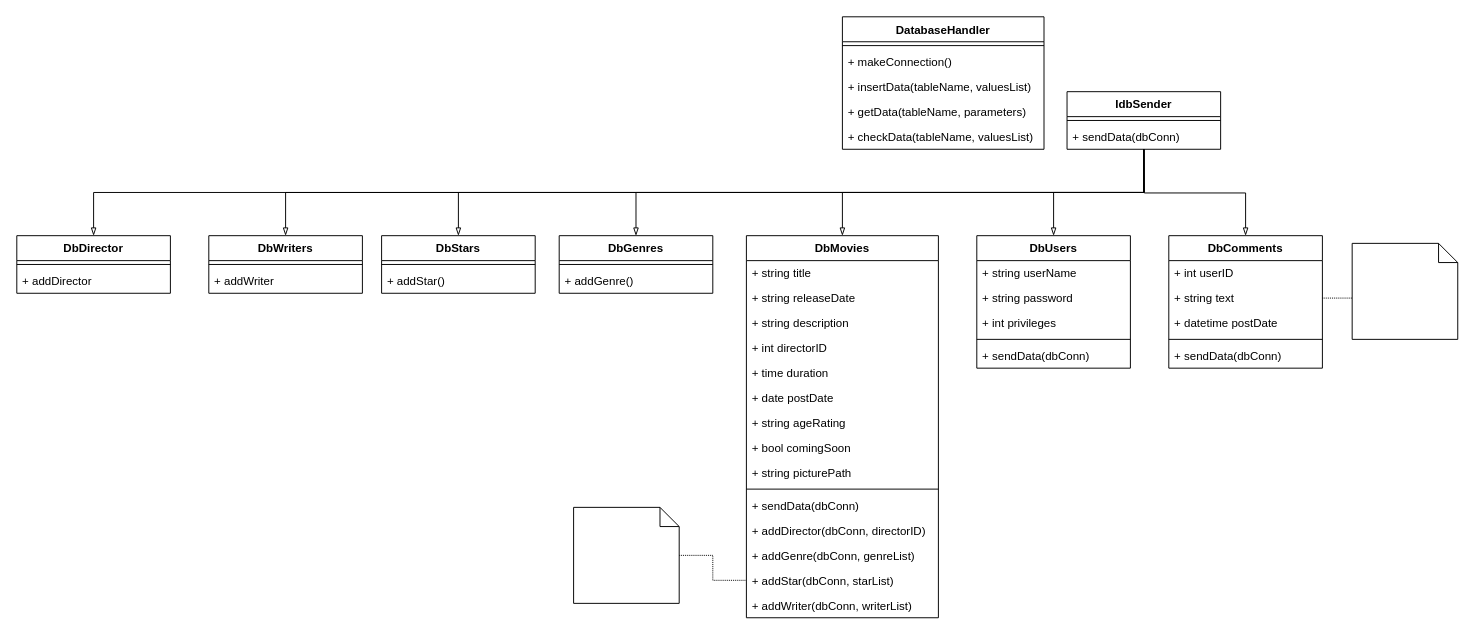
Image size: 1475x637. Some labels were removed from this diagram. Each missing label, with the centre of its shape:
"Sender også til CommentsJunction" goes at point 1404,290.
"Sender til diverse Junctions" goes at point 626,554.
